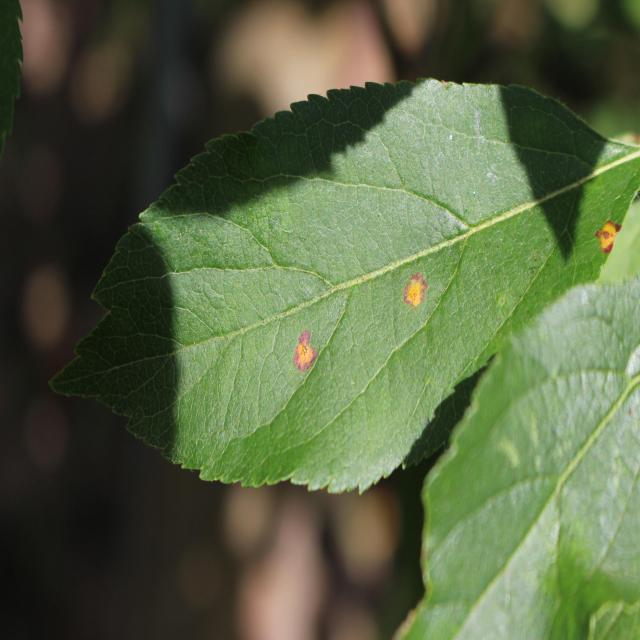Rust: (279, 306, 324, 399), (573, 212, 638, 264), (398, 256, 442, 332)
